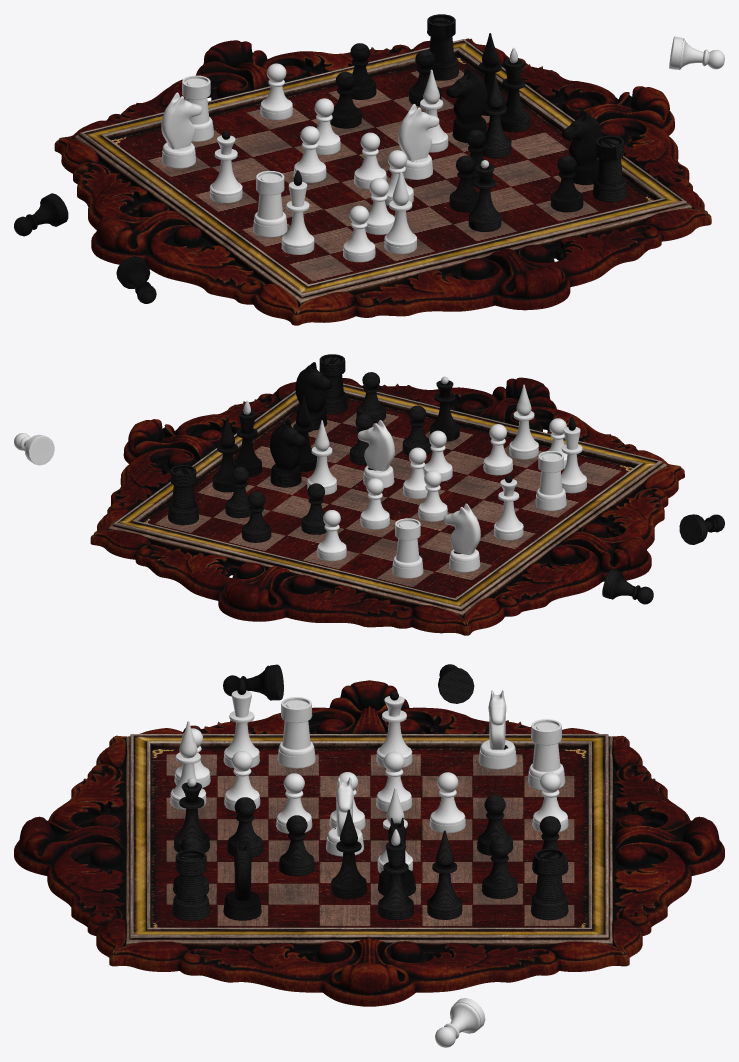
File: chess-board.glb
The picture shows the model from 3 angles, top to bottom: view 1: azimuth 30°, elevation 25°; view 2: azimuth 150°, elevation 25°; view 3: azimuth 270°, elevation 25°; orthographic projection. The views are drawn at different scales.
Visible parts, largest first — view 1: Object_2, Object_8, Object_5, Object_7, Object_4, Object_3, Object_9, Object_6; view 2: Object_2, Object_8, Object_5, Object_7, Object_4, Object_3, Object_9, Object_6; view 3: Object_2, Object_5, Object_8, Object_7, Object_4, Object_3, Object_6, Object_9.
Boxes of the visible parts, bbox=[...] form: Object_2: bbox=[54, 38, 711, 325]; Object_8: bbox=[209, 36, 724, 262]; Object_5: bbox=[14, 43, 583, 303]; Object_7: bbox=[161, 75, 439, 237]; Object_4: bbox=[427, 14, 627, 202]; Object_3: bbox=[57, 42, 697, 317]; Object_9: bbox=[420, 69, 448, 152]; Object_6: bbox=[478, 33, 506, 115]; Object_2: bbox=[90, 377, 684, 635]; Object_8: bbox=[14, 376, 586, 561]; Object_5: bbox=[225, 372, 724, 604]; Object_7: bbox=[357, 420, 566, 578]; Object_4: bbox=[168, 354, 347, 525]; Object_3: bbox=[104, 378, 681, 633]; Object_9: bbox=[307, 420, 336, 495]; Object_6: bbox=[212, 417, 237, 492]; Object_2: bbox=[14, 680, 724, 1006]; Object_5: bbox=[173, 664, 568, 920]; Object_8: bbox=[170, 690, 568, 1047]; Object_7: bbox=[277, 690, 565, 856]; Object_4: bbox=[172, 817, 568, 921]; Object_3: bbox=[24, 705, 700, 1001]; Object_6: bbox=[427, 830, 462, 919]; Object_9: bbox=[377, 787, 412, 872].
Size of the model in its own units: 337 by 43.6 by 273.
Materials: 3 (3 with a texture image).
